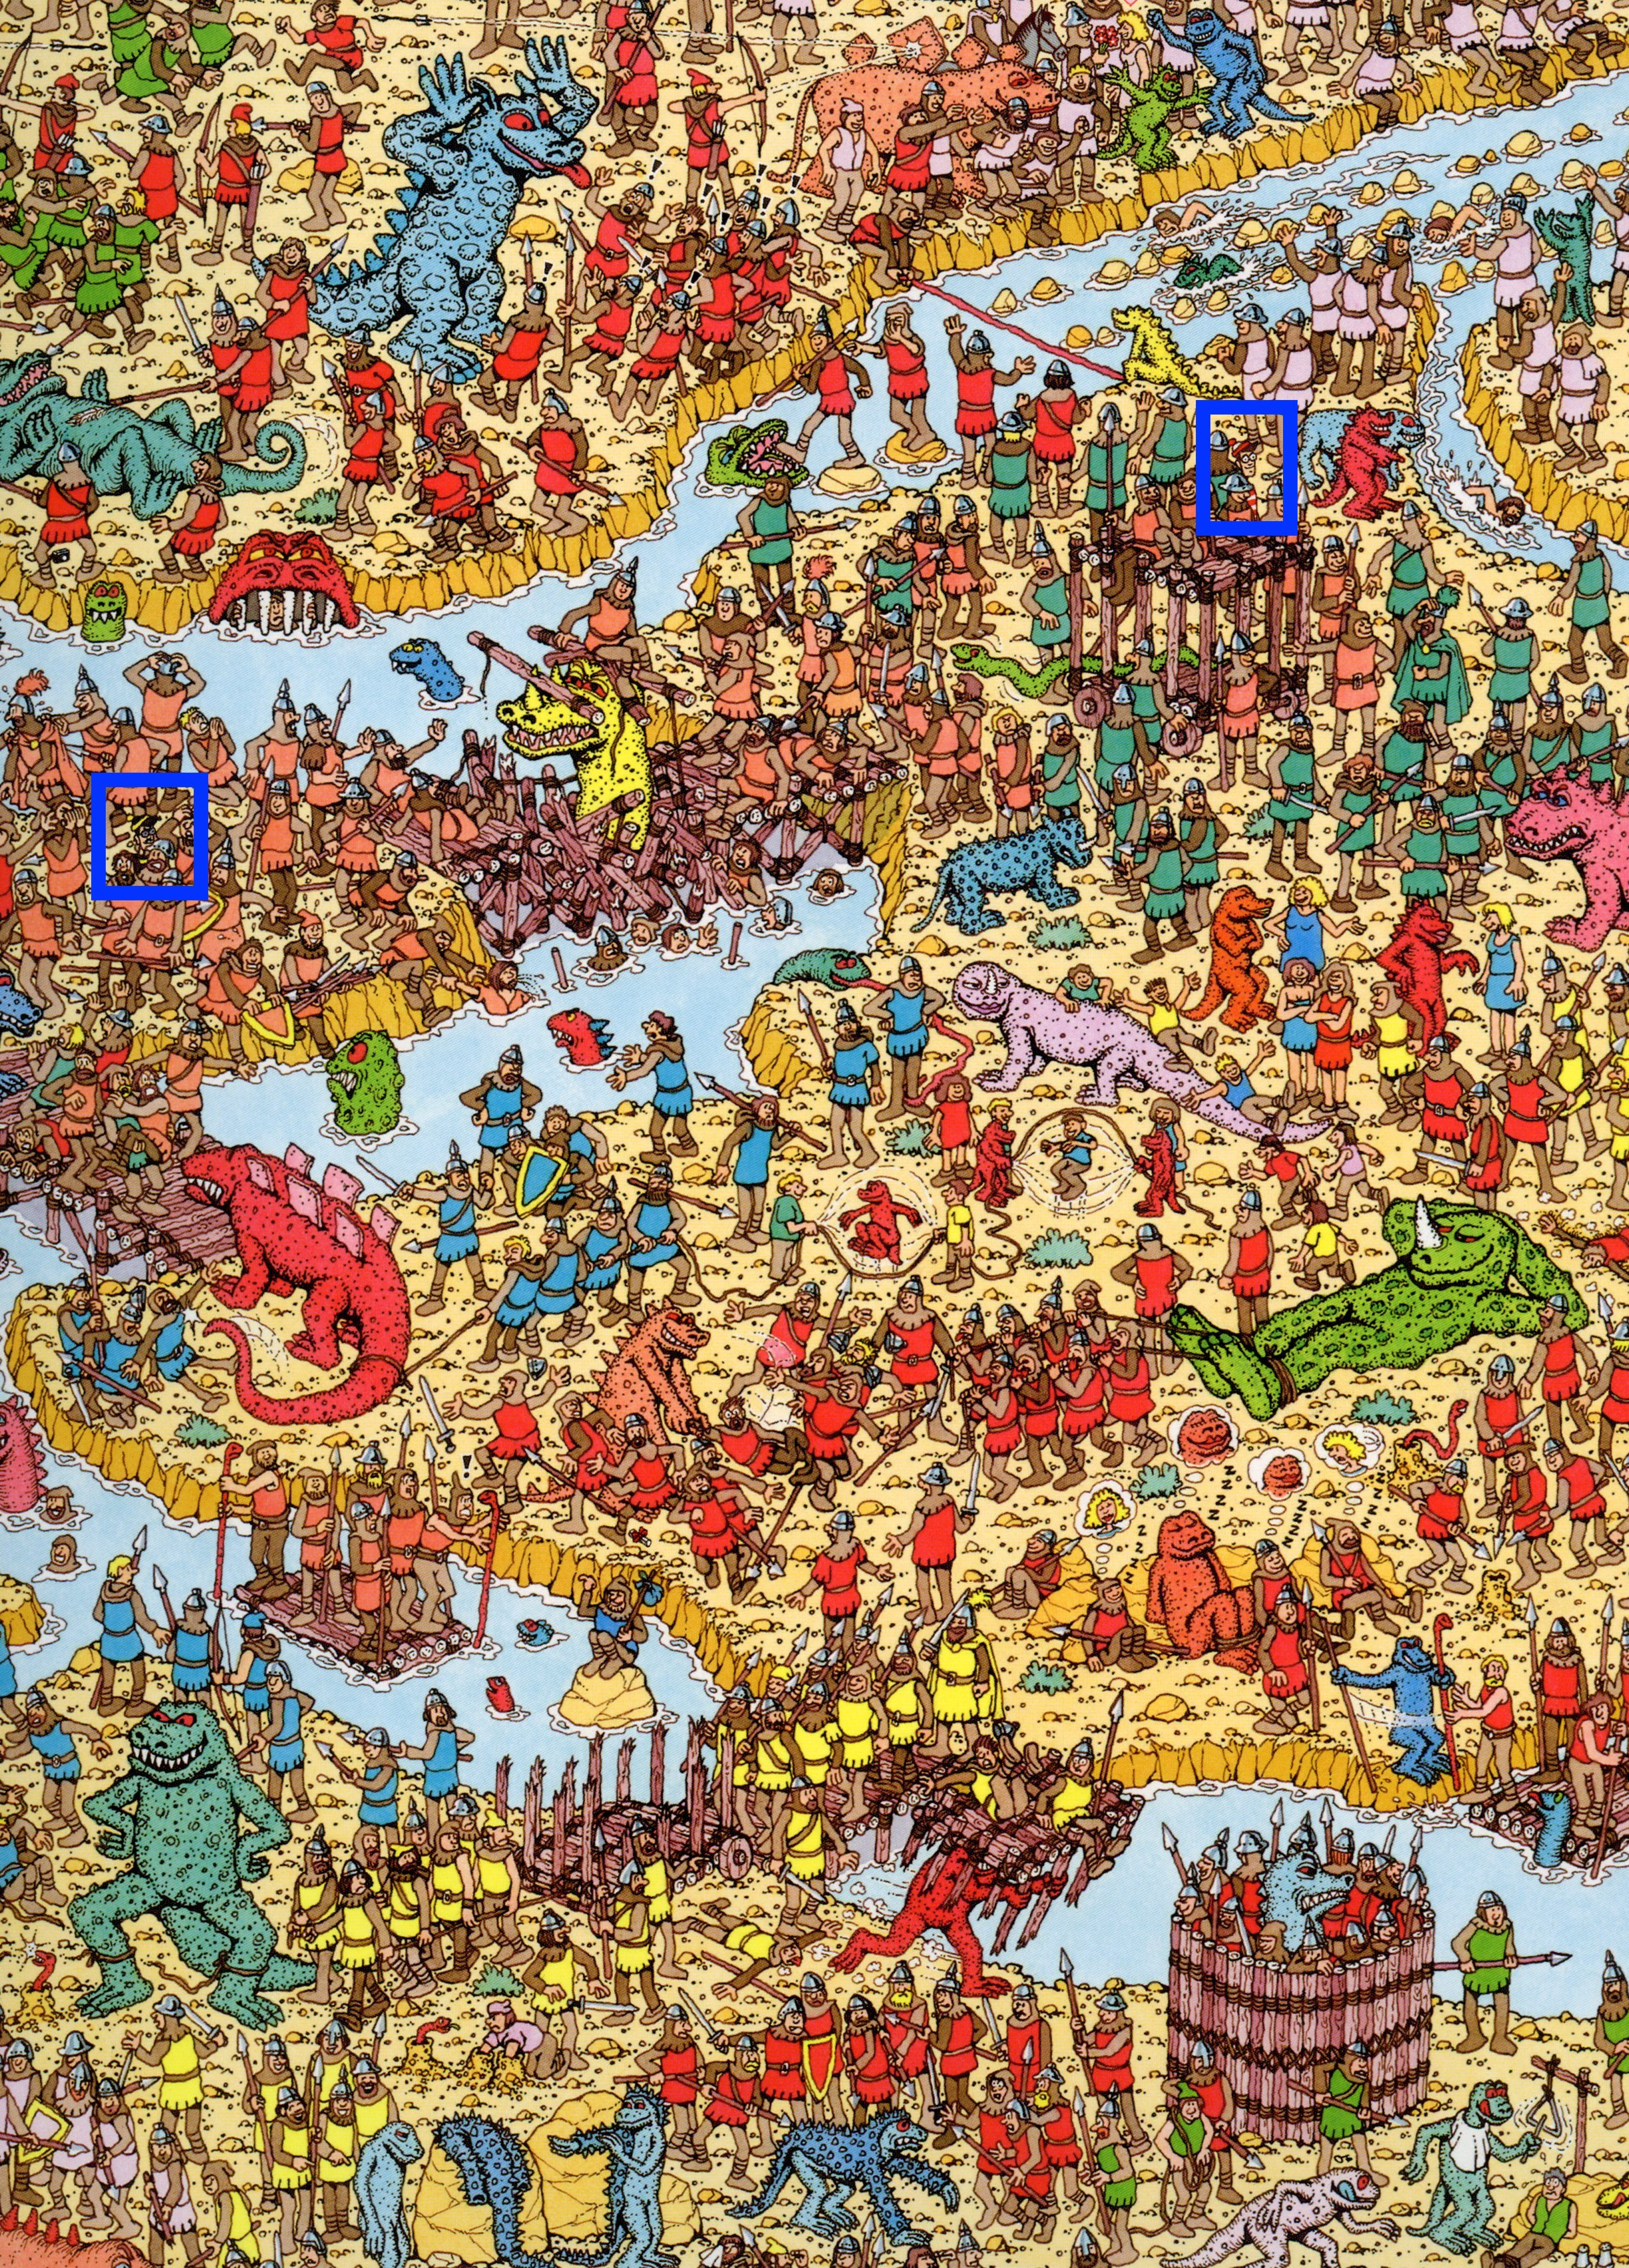odlaw: (99, 775, 224, 900)
waldo: (1196, 409, 1305, 546)
